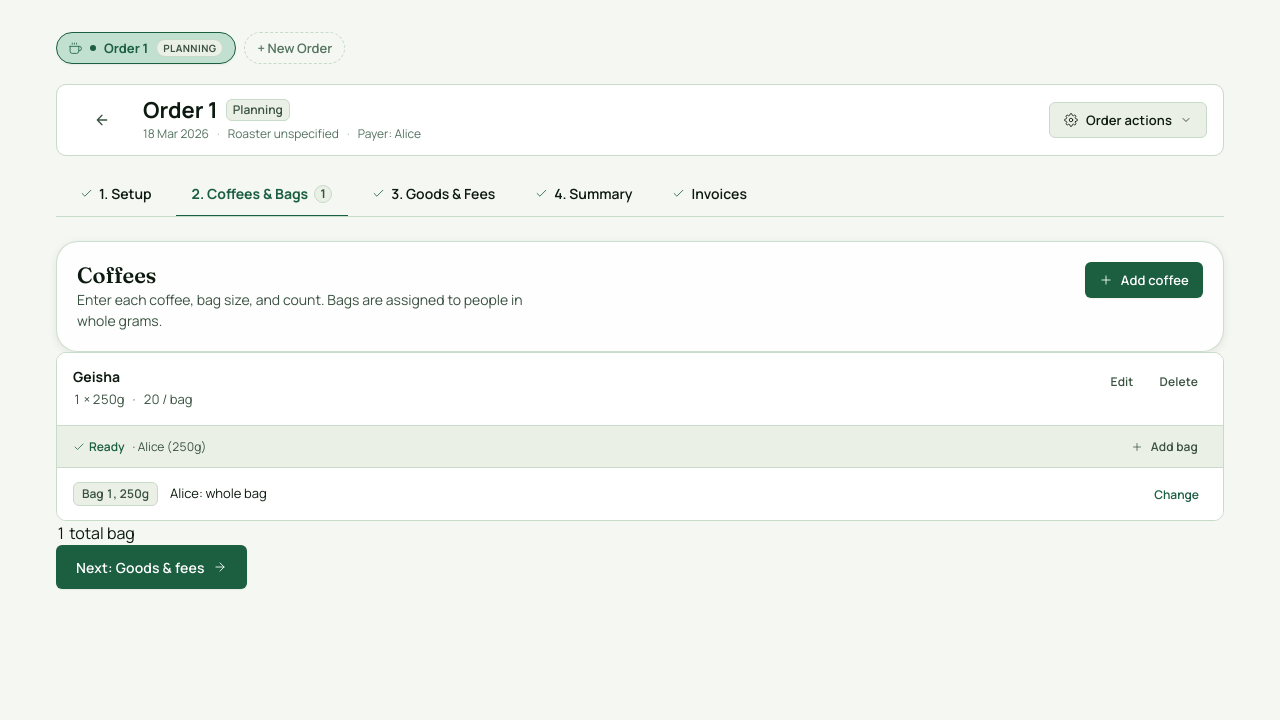
Test: OrderPage component tests › F3: selecting Invoices tab renders button with .is-active, aria-selected="true", and displays SettlementPacks section
Expected: the tab with class "order-section-tab" showing "2. Coffees & Bags 1" is shown, [176,172,348,216]
Switch to Invoices tab
Click the tab with class "order-section-tab" showing "Invoices". click: (710, 195)
box: [656,172,763,217]
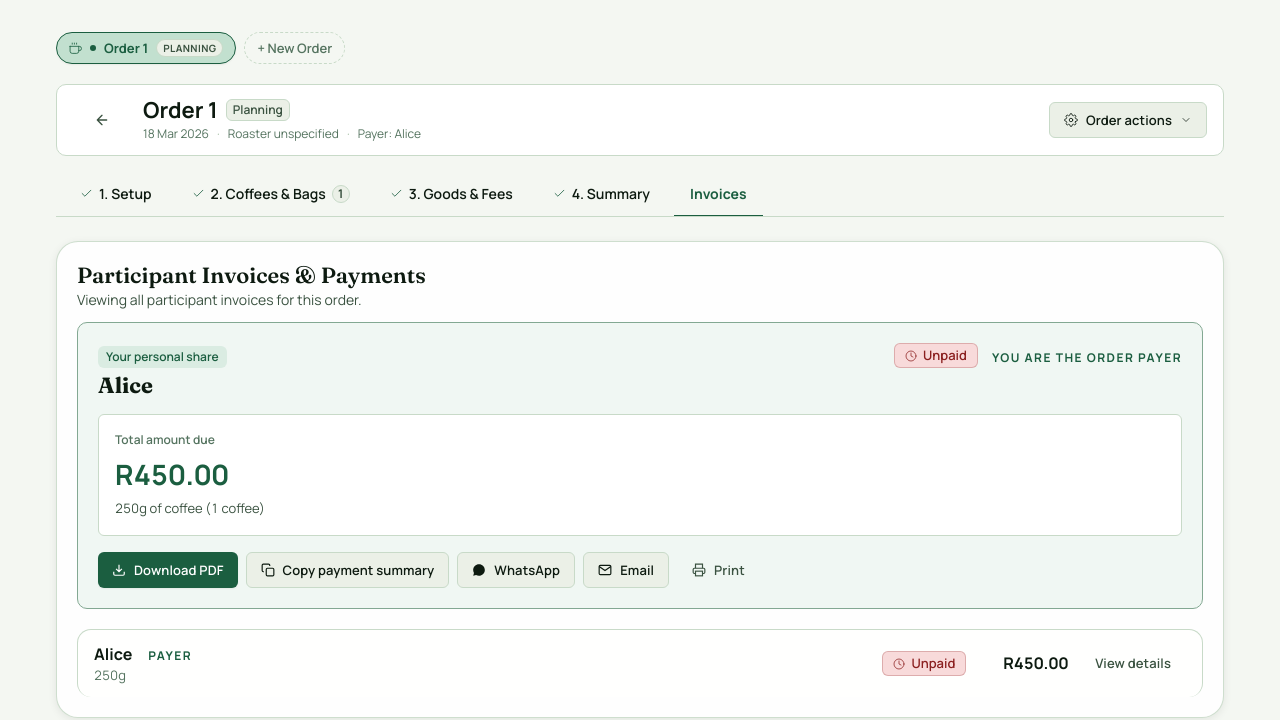
Expected: the element with class "settlement-packs-section" is shown
Expected: the element with class "settlement-packs-section" shows "Participant Invoices & Payments", [77,261,426,289]
Expected: the element with class "settlement-packs-section" shows "Viewing all participant invoices for this order.", [77,290,362,309]
